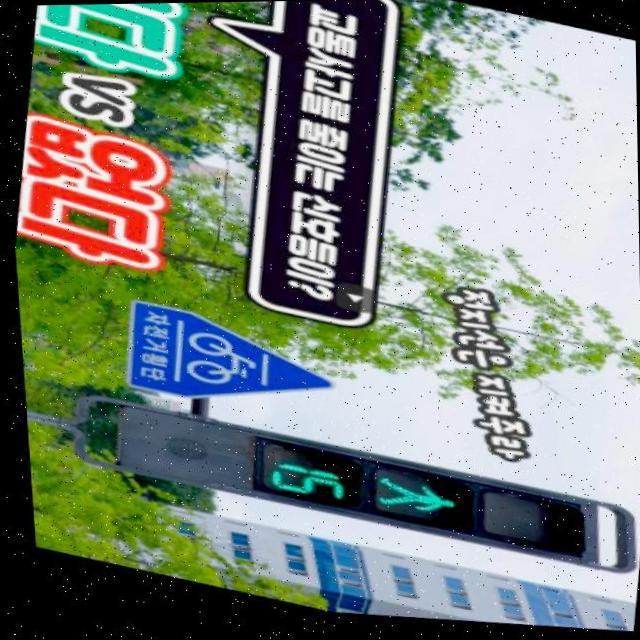green_light: (252, 439, 460, 544)
